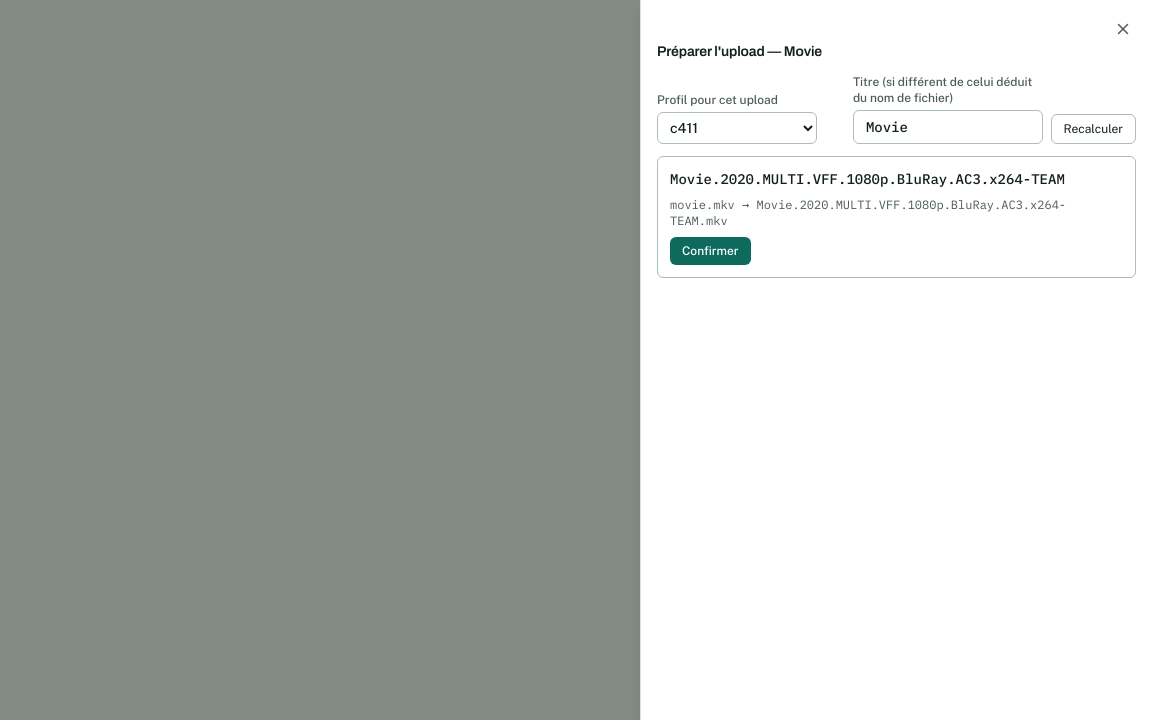
Confirmer demarre une tache, affiche le resultat une fois terminee (done)
Click the button "Confirmer". click: (710, 251)
box: [670,237,751,265]
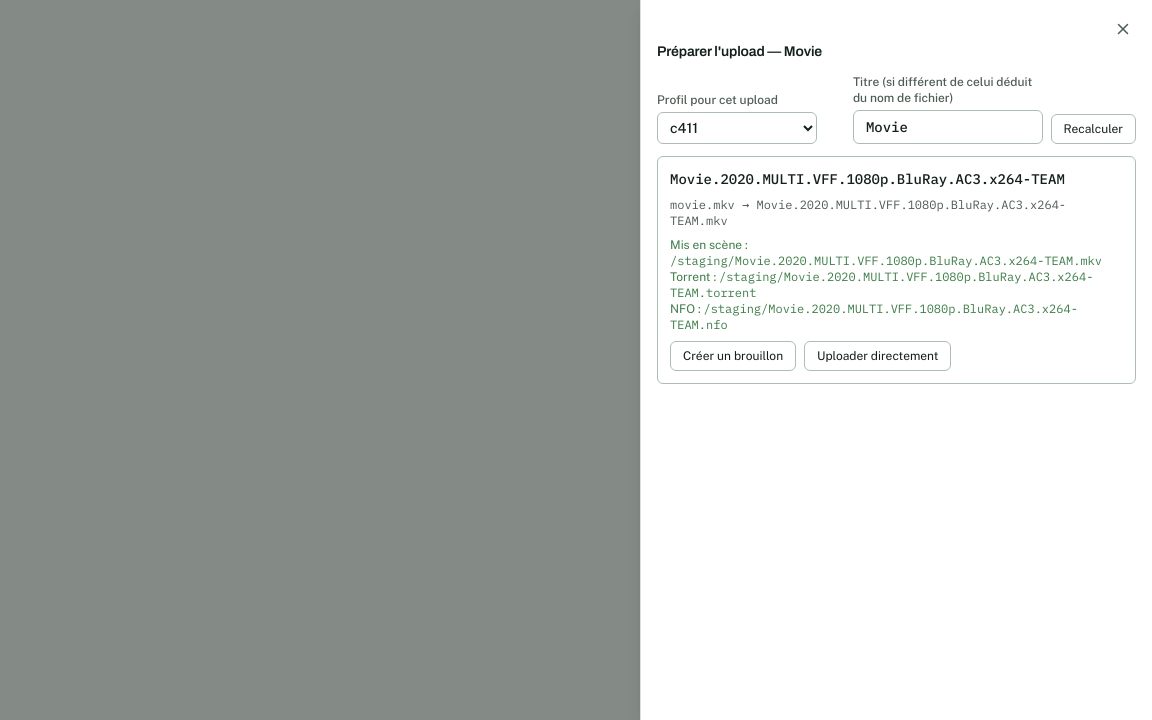
Expected: the text "staging/Movie.2020.MULTI.VFF.1080p.BluRay.AC3.x264-TEAM.torrent" is shown, [670,269,1093,300]
